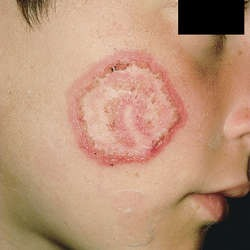Ringworm: (65, 42, 191, 173)
